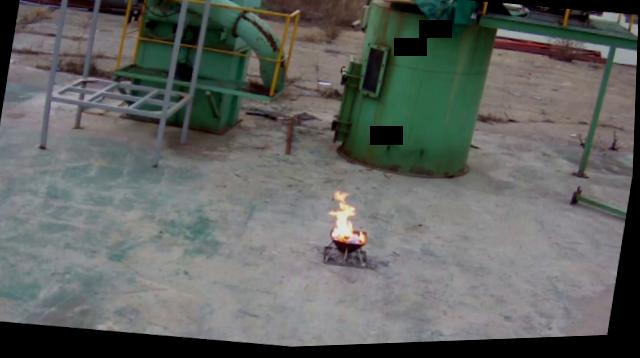fire: (327, 192, 362, 245), (358, 235, 366, 246)
